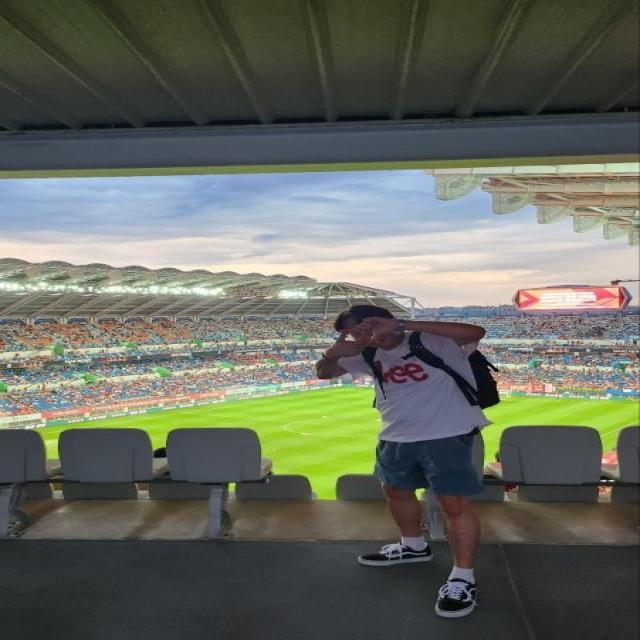shortpants: (378, 431, 484, 493)
shortsleeve: (337, 331, 498, 442)
